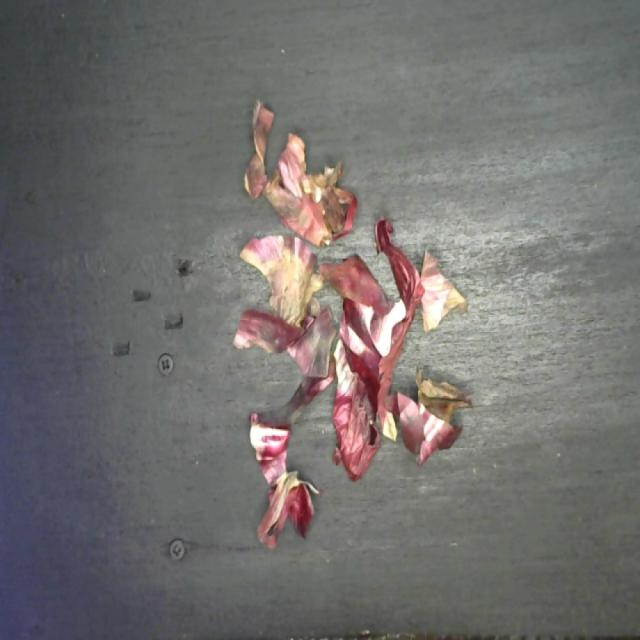biodegradable: (232, 91, 478, 556)
